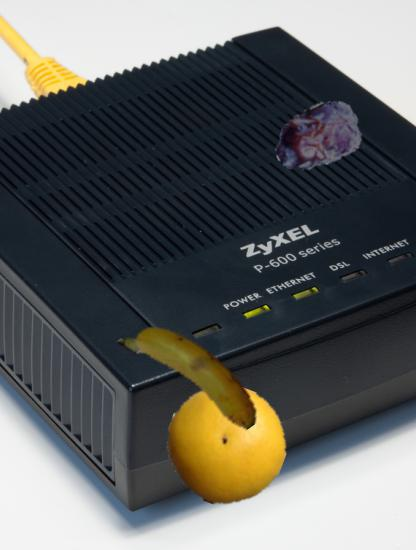Banana: (117, 305, 266, 454)
Dates: (272, 92, 362, 182)
Grapefruit: (166, 385, 286, 505)
